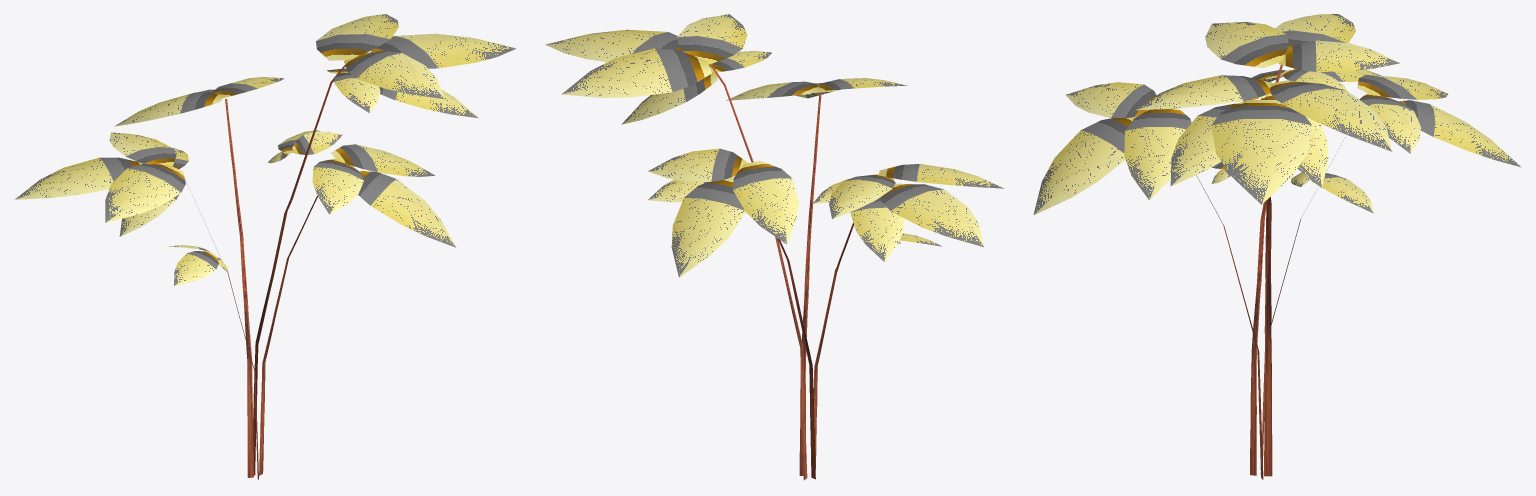
File: SM_Plant2.fbx
3 renders of one model, left to right at view 1: azimuth 30°, elevation 25°; view 2: azimuth 150°, elevation 25°; view 3: azimuth 270°, elevation 25°, orthographic. The views are drawn at different scales.
Visible parts, largest first — view 1: SM_Plant2; view 2: SM_Plant2; view 3: SM_Plant2.
Boxes of the visible parts, x1,y1,x2,y2 form: SM_Plant2: [15, 14, 515, 479]; SM_Plant2: [545, 14, 1003, 480]; SM_Plant2: [1033, 14, 1520, 479].
Bounding box in the file's own units: 125 × 102 × 98.51.
